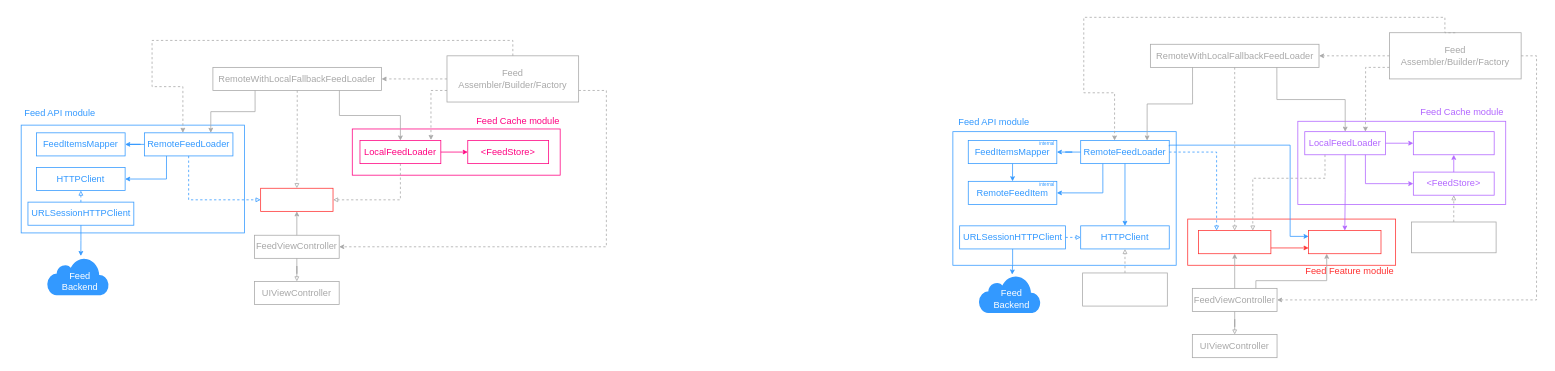
Some shapes in this 1555 by 371 pixel diagram are drawn without their labels. The shapes that lost their labels are listed below. From the top down, each one's centre as x and y in pixels, then its label:
(x=1453, y=143): LocalFeedImage
(x=296, y=199): <Feed Feature>
(x=1234, y=242): <FeedLoader>
(x=1344, y=242): FeedImage
(x=1453, y=237): AnyFeedStore Implementation
(x=1124, y=289): AnyHTTPClient Implementation
